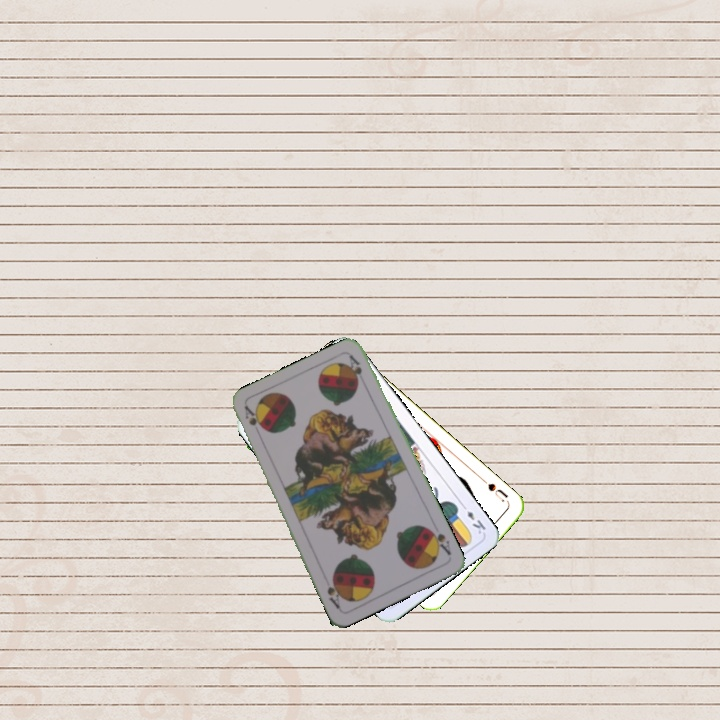EK: (457, 500, 488, 537)
SA: (424, 524, 454, 558), (240, 402, 262, 429)
SU: (478, 475, 511, 505)
